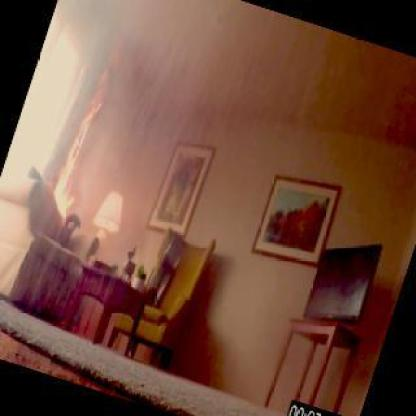Fire: (52, 83, 103, 225)
